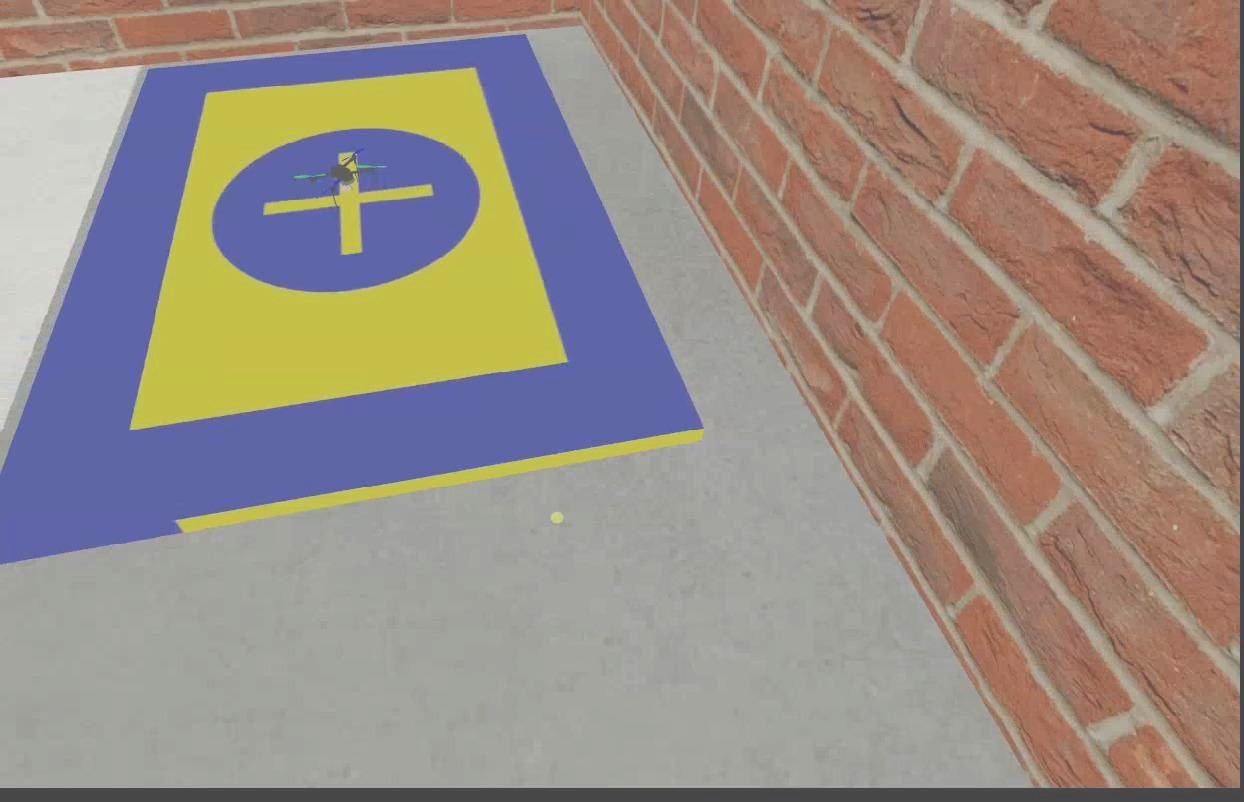large_base: (0, 32, 714, 562)
